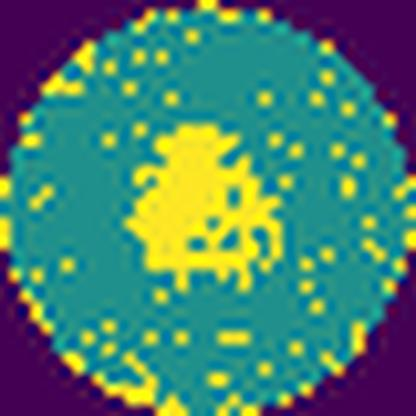Center: (125, 122, 286, 296)
